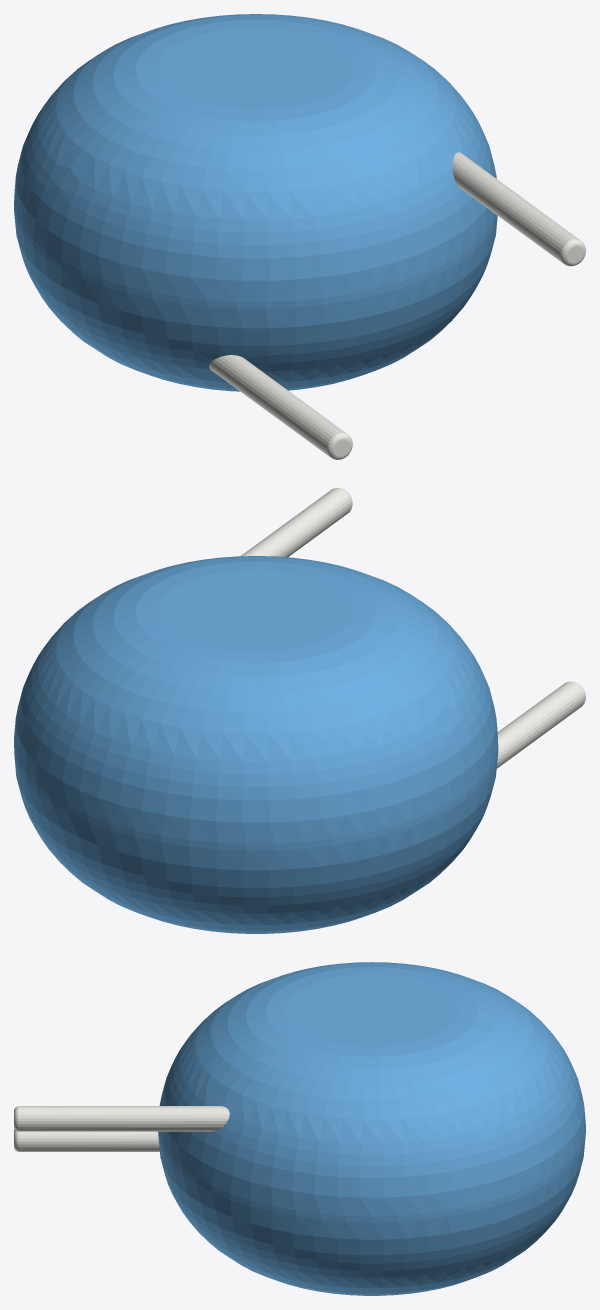
Rendered from RV_Disc_D9mm_W5.5mm_P5mm.glb.
3 views of the same model, one above another, from view 1: azimuth 30°, elevation 25°; view 2: azimuth 150°, elevation 25°; view 3: azimuth 270°, elevation 25° (orthographic). The views are drawn at different scales.
Visible parts, largest first — view 1: Shape_IndexedFaceSet.001, Shape_IndexedFaceSet.002, Shape_IndexedFaceSet.003, Shape_IndexedFaceSet.006, Shape_IndexedFaceSet.004, Shape_IndexedFaceSet; view 2: Shape_IndexedFaceSet.001, Shape_IndexedFaceSet.002, Shape_IndexedFaceSet.003, Shape_IndexedFaceSet, Shape_IndexedFaceSet.006, Shape_IndexedFaceSet.004; view 3: Shape_IndexedFaceSet.001, Shape_IndexedFaceSet.002, Shape_IndexedFaceSet.003, Shape_IndexedFaceSet.004, Shape_IndexedFaceSet.006, Shape_IndexedFaceSet.
Part boxes in pixels (bbox=[...]): Shape_IndexedFaceSet.001: bbox=[14, 14, 496, 301]; Shape_IndexedFaceSet.002: bbox=[14, 211, 497, 391]; Shape_IndexedFaceSet.003: bbox=[158, 27, 353, 109]; Shape_IndexedFaceSet.006: bbox=[209, 355, 345, 456]; Shape_IndexedFaceSet.004: bbox=[452, 152, 579, 262]; Shape_IndexedFaceSet: bbox=[14, 205, 497, 308]; Shape_IndexedFaceSet.001: bbox=[14, 556, 498, 843]; Shape_IndexedFaceSet.002: bbox=[14, 753, 498, 933]; Shape_IndexedFaceSet.003: bbox=[158, 569, 353, 651]; Shape_IndexedFaceSet: bbox=[14, 742, 498, 850]; Shape_IndexedFaceSet.006: bbox=[496, 682, 585, 768]; Shape_IndexedFaceSet.004: bbox=[241, 488, 351, 557]; Shape_IndexedFaceSet.001: bbox=[159, 962, 585, 1216]; Shape_IndexedFaceSet.002: bbox=[158, 1133, 585, 1295]; Shape_IndexedFaceSet.003: bbox=[285, 974, 458, 1046]; Shape_IndexedFaceSet.004: bbox=[19, 1106, 229, 1131]; Shape_IndexedFaceSet.006: bbox=[19, 1131, 159, 1151]; Shape_IndexedFaceSet: bbox=[158, 1127, 585, 1222].
Bounding box in the file's own units: 3.54 × 2.17 × 4.74.
